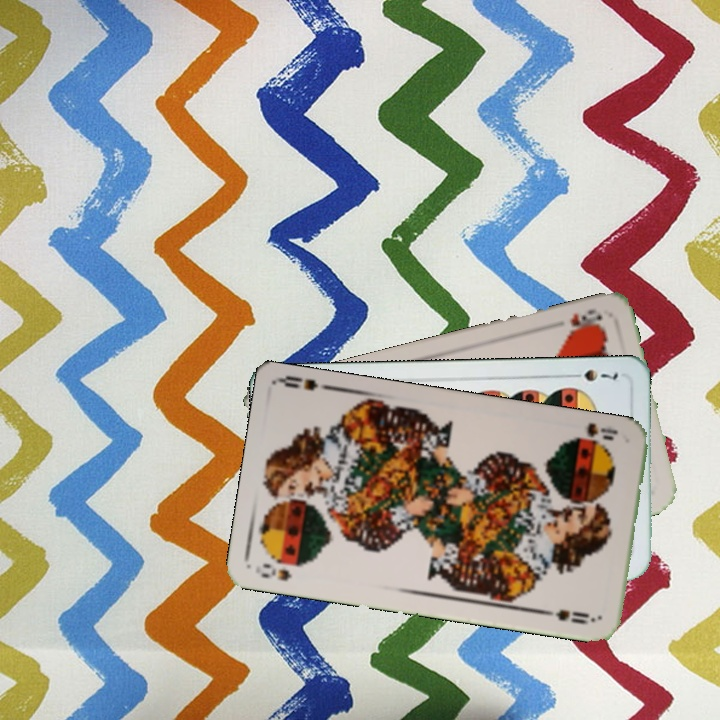HO: (561, 305, 605, 337)
S7: (565, 365, 621, 385)
SO: (583, 419, 621, 443), (257, 559, 294, 583)
